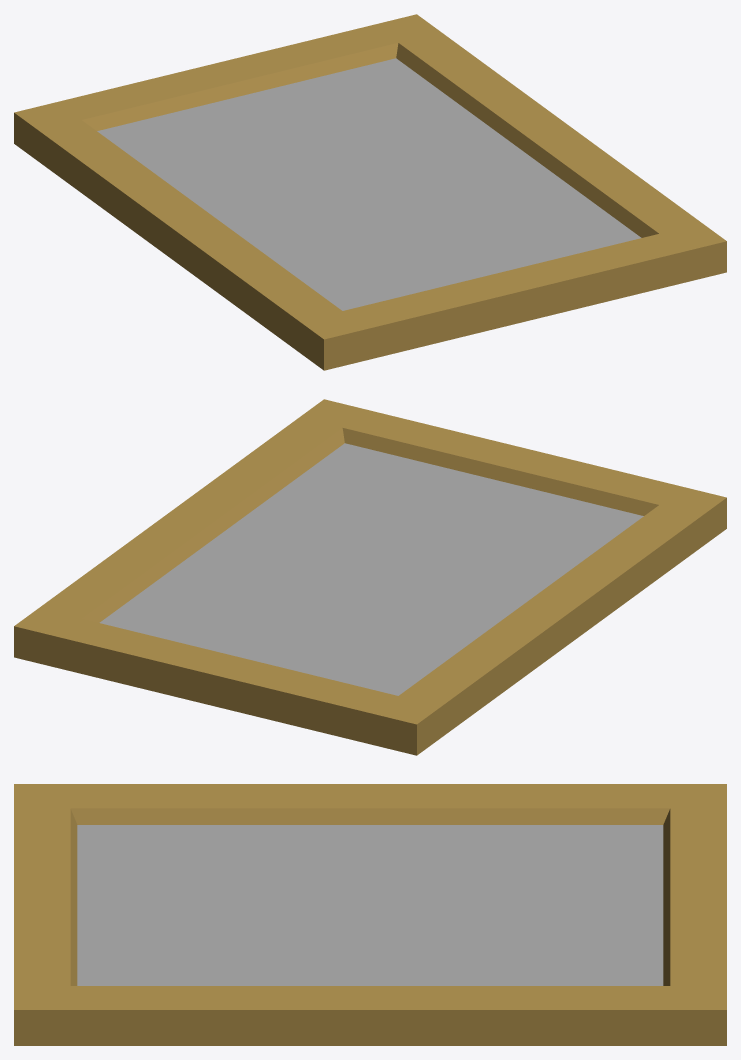
The model's file is PictureFrame.fbx.
3 views of the same model, one above another, from view 1: azimuth 30°, elevation 25°; view 2: azimuth 150°, elevation 25°; view 3: azimuth 270°, elevation 25° (orthographic). The views are drawn at different scales.
Parts seen in each view (by area): view 1: PictureFrame:RoadKillOut; view 2: PictureFrame:RoadKillOut; view 3: PictureFrame:RoadKillOut.
Boxes of the visible parts, bbox=[...] form: PictureFrame:RoadKillOut: bbox=[14, 14, 726, 370]; PictureFrame:RoadKillOut: bbox=[14, 399, 726, 755]; PictureFrame:RoadKillOut: bbox=[14, 784, 726, 1045].
Size of the model in its own units: 38.55 by 2.85 by 51.39.
